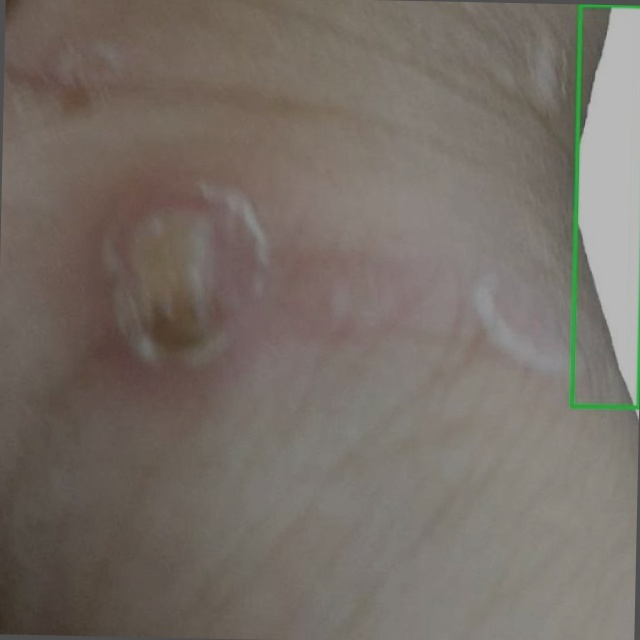Scabies: (572, 4, 639, 408)
